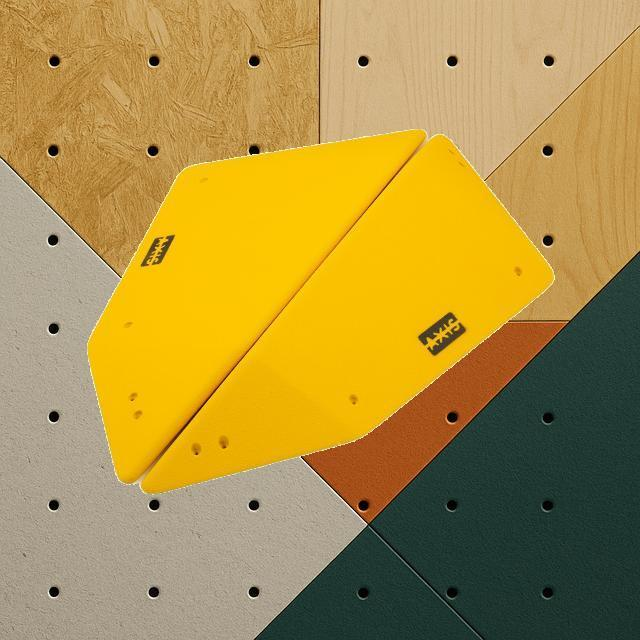Volume: (140, 132, 556, 494), (85, 130, 428, 486)
